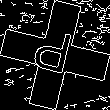P_S: (31, 26, 79, 84)
